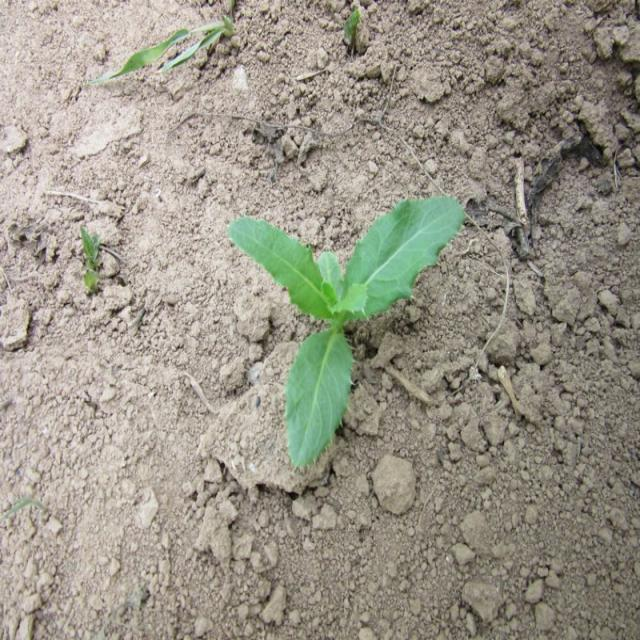cs: (226, 187, 468, 475)
